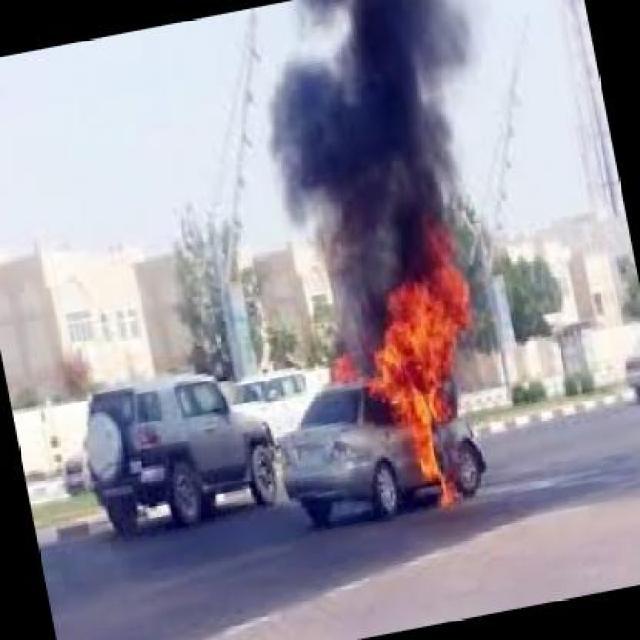Fire: (370, 237, 488, 506)
Smoke: (278, 1, 512, 230), (320, 212, 386, 344)
